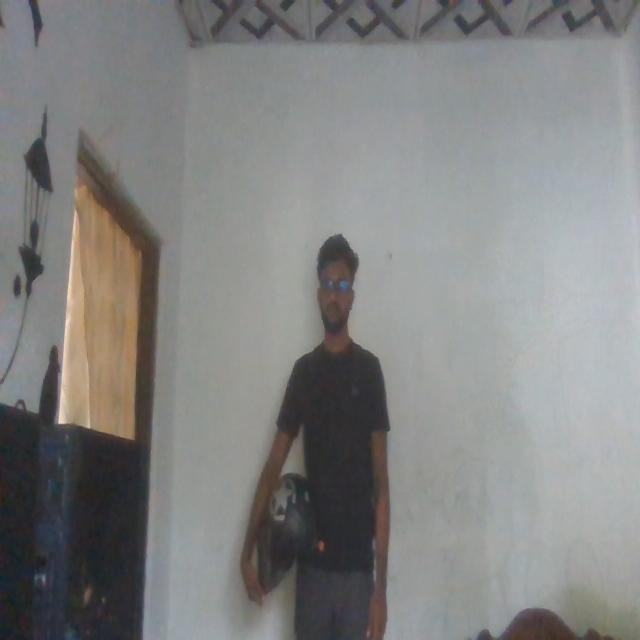Person: (266, 229, 399, 635)
